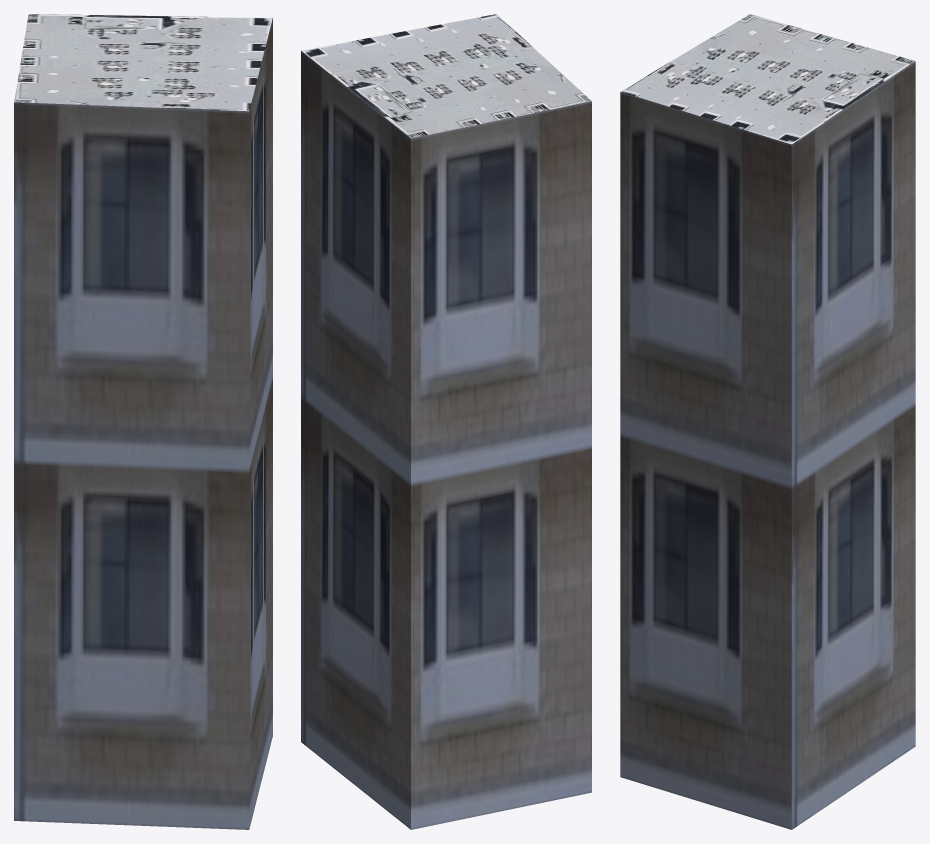
The model's file is ResTex__4381.fbx.
3 renders of one model, left to right at view 1: azimuth 30°, elevation 25°; view 2: azimuth 150°, elevation 25°; view 3: azimuth 270°, elevation 25°, orthographic. The views are drawn at different scales.
Visible parts, largest first — view 1: CityEngineMaterial_3_m, CityEngineMaterial_8_m; view 2: CityEngineMaterial_3_m, CityEngineMaterial_8_m; view 3: CityEngineMaterial_3_m, CityEngineMaterial_8_m.
Boxes of the visible parts, x1,y1,x2,y2 form: CityEngineMaterial_3_m: (14,18,272,829); CityEngineMaterial_8_m: (14,14,272,111); CityEngineMaterial_3_m: (301,51,591,829); CityEngineMaterial_8_m: (301,14,591,138); CityEngineMaterial_3_m: (620,61,915,829); CityEngineMaterial_8_m: (620,14,915,144).
Size of the model in its own units: 2.45 by 6 by 2.34.
2 materials, 2 textured.
